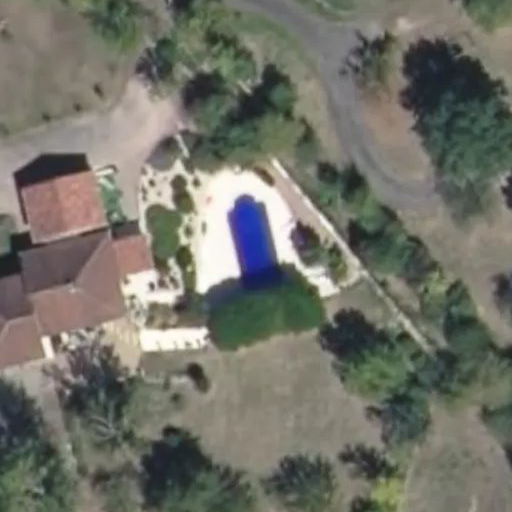pool: (219, 197, 288, 280)
